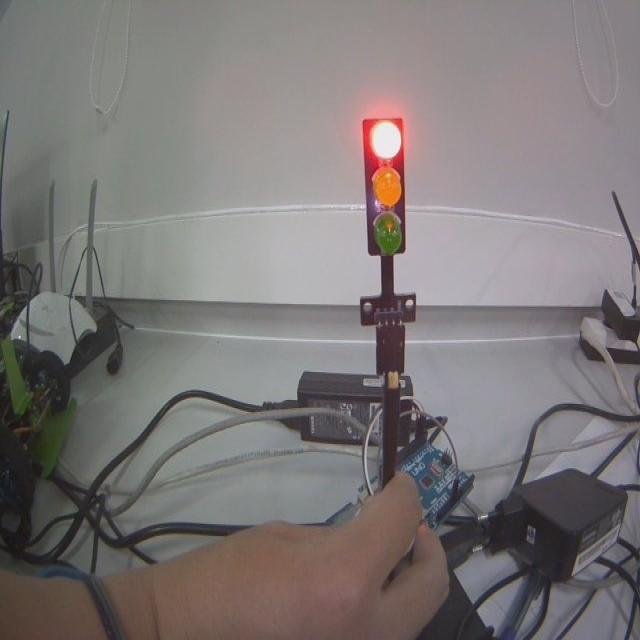Lampu Merah: (359, 115, 407, 262)
